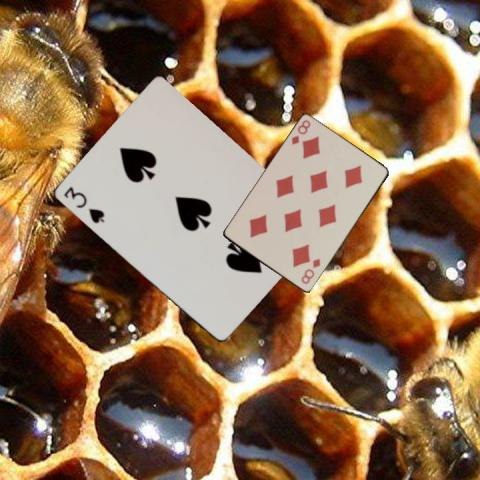3s: (60, 184, 105, 225)
8d: (298, 255, 322, 286), (289, 117, 312, 147)
